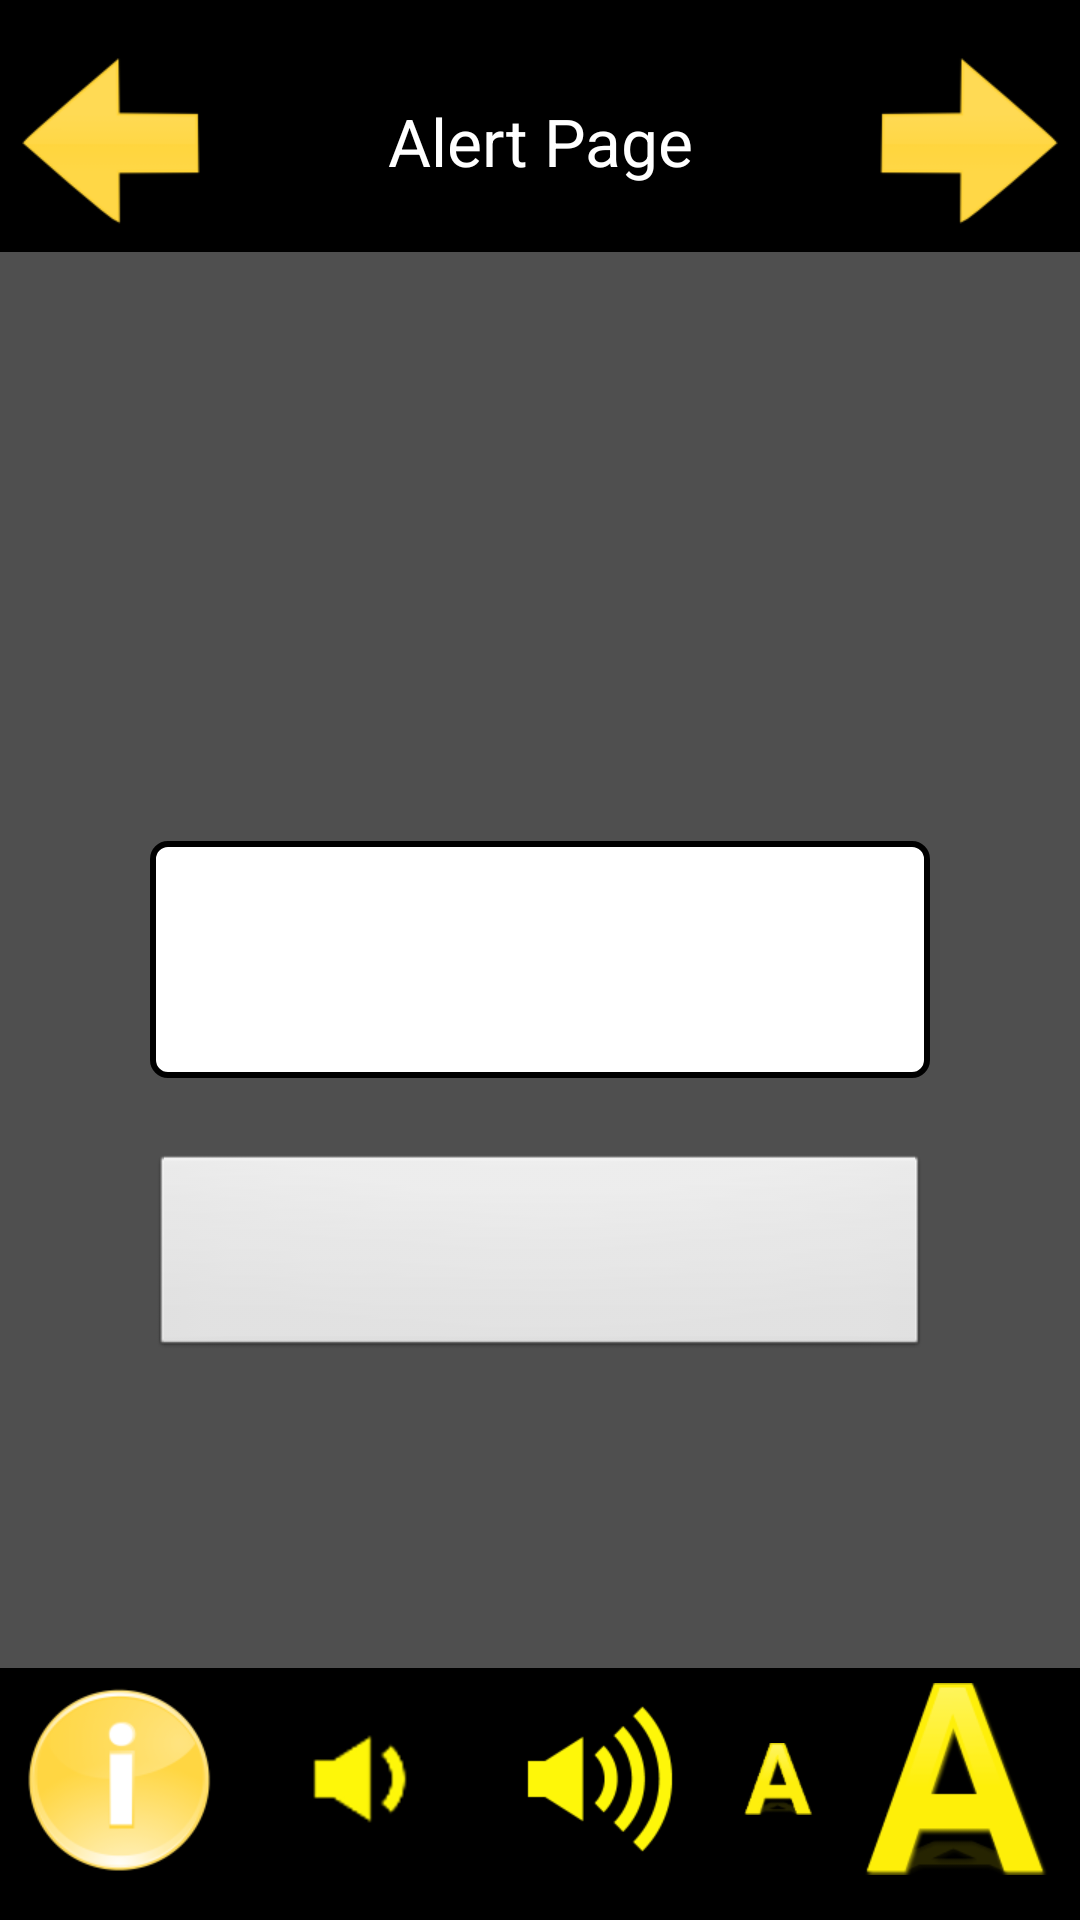

Locate icon controls on the screen. Image size 1080px×1920px, boxes as (left=x1, top=y1, right=x2, bottom=y2).
help: (left=28, top=1689, right=210, bottom=1871)
next: (left=880, top=58, right=1058, bottom=224)
previous: (left=22, top=58, right=200, bottom=224)
vol dec: (left=313, top=1736, right=407, bottom=1822)
vol inc: (left=527, top=1706, right=673, bottom=1852)
